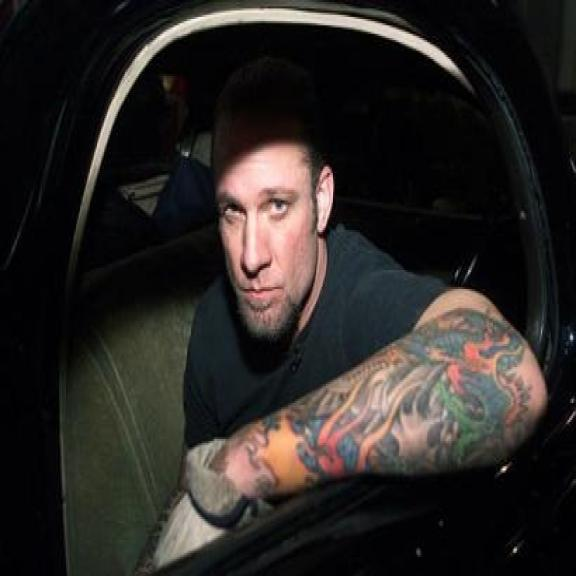face: (218, 102, 338, 333)
